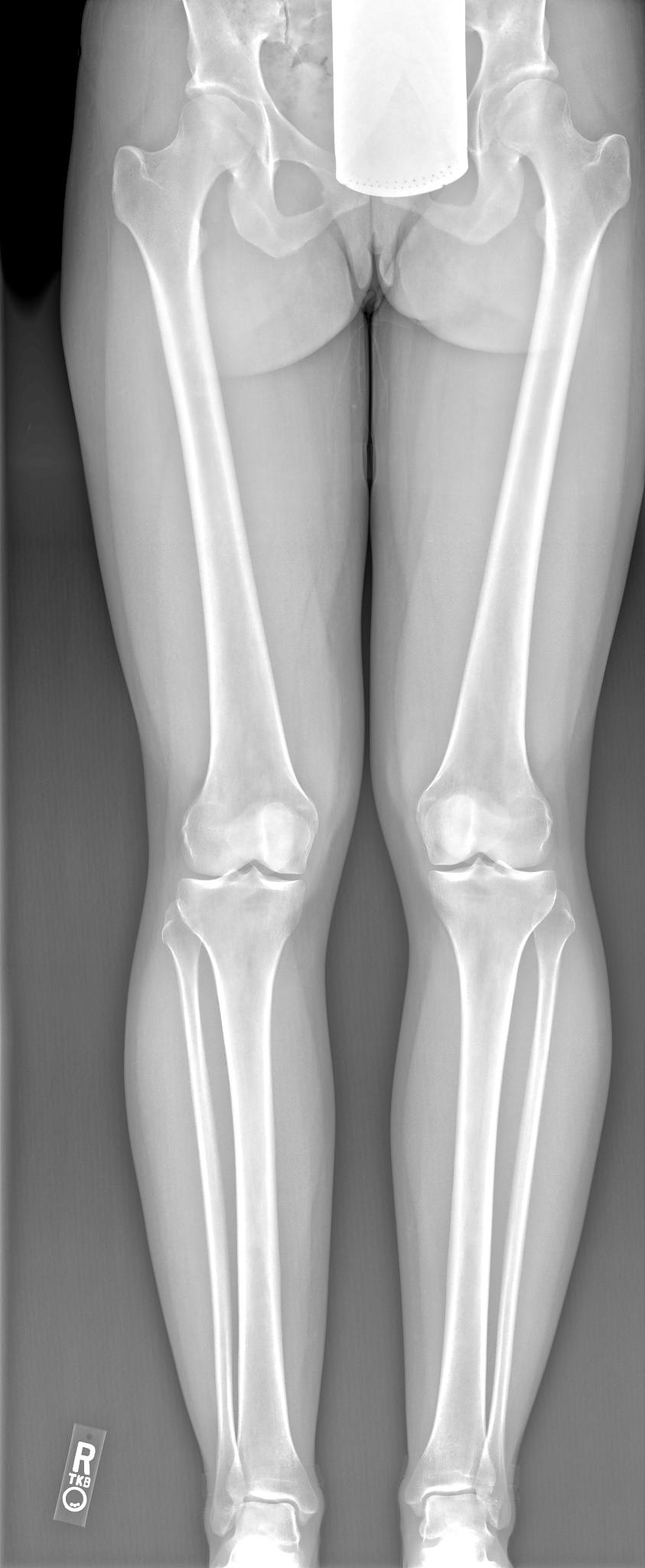Leg Fibula: (477, 892, 575, 1528), (162, 903, 242, 1534)
Leg Tibia: (404, 858, 557, 1512), (177, 868, 317, 1518)
femur: (418, 74, 631, 867), (113, 84, 318, 878)
